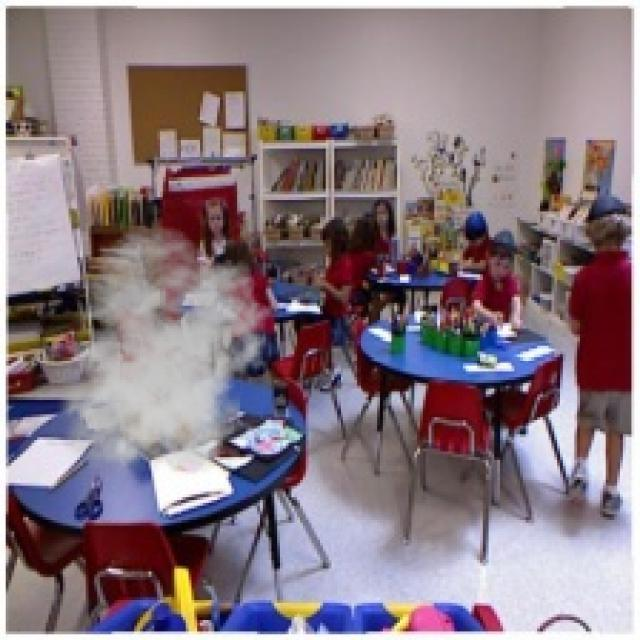Smoke: (48, 226, 274, 483)
